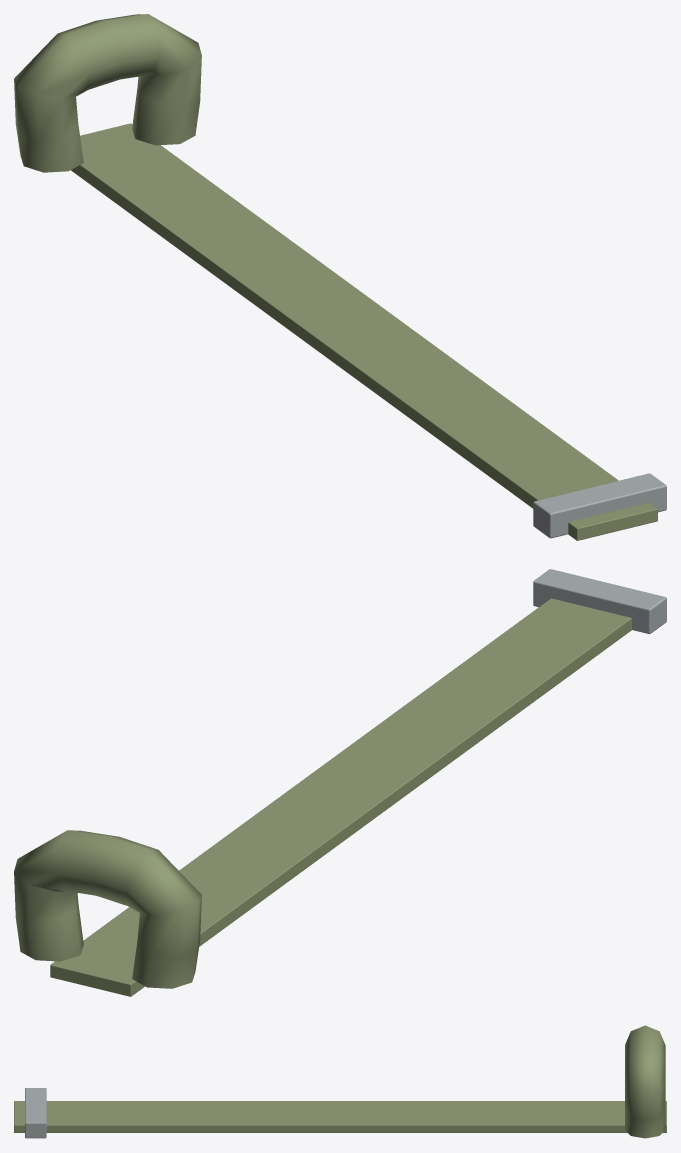
The model's file is backpacks-and-expedition-storage-strap-extension-5efc037d__21102.glb.
3 views of the same model, one above another, from view 1: azimuth 30°, elevation 25°; view 2: azimuth 150°, elevation 25°; view 3: azimuth 270°, elevation 25° (orthographic). The views are drawn at different scales.
Parts seen in each view (by area): view 1: strap-extension; view 2: strap-extension; view 3: strap-extension.
Boxes of the visible parts, bbox=[...] form: strap-extension: bbox=[14, 14, 666, 540]; strap-extension: bbox=[14, 569, 666, 996]; strap-extension: bbox=[14, 1025, 666, 1138].
Size of the model in its own units: 0.0892 by 0.065 by 0.45.
